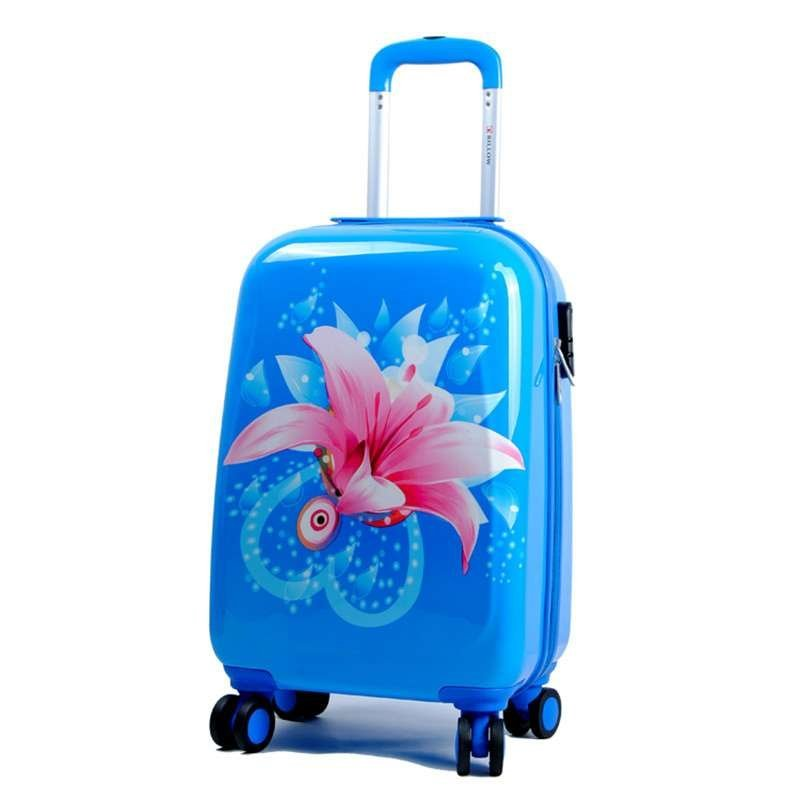luggage: (206, 32, 578, 780)
